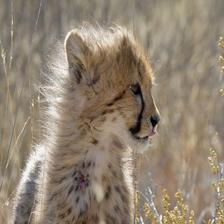Cheetah: (9, 19, 160, 224)
